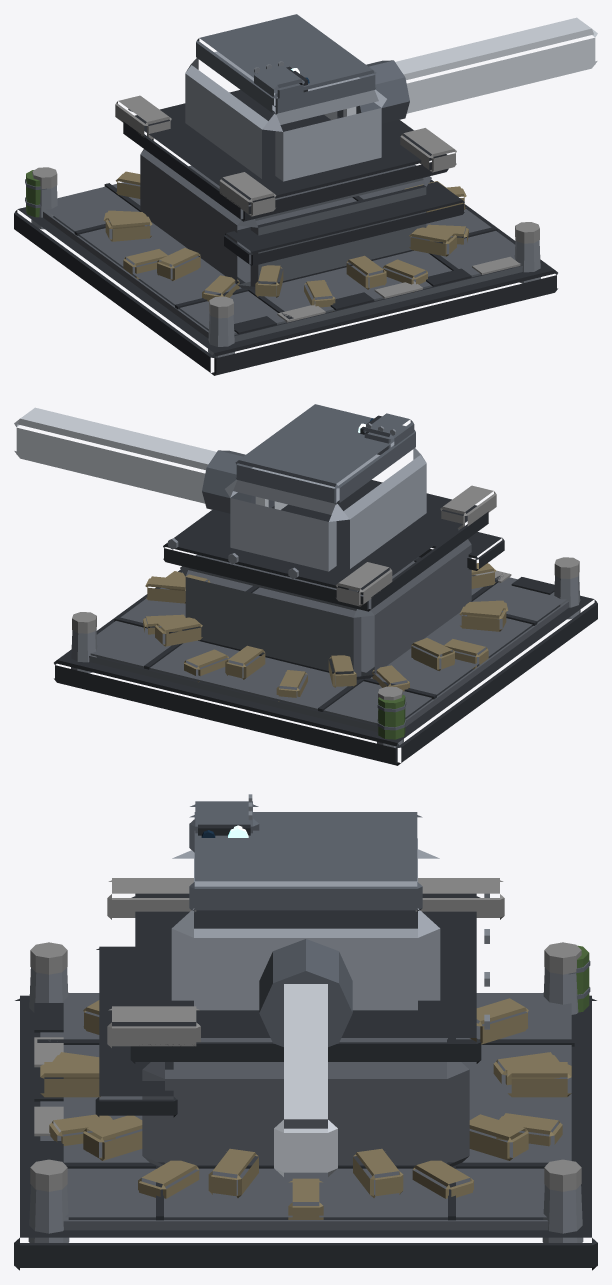
File: con_pillbox.glb
3 renders of one model, top to bottom at view 1: azimuth 30°, elevation 25°; view 2: azimuth 150°, elevation 25°; view 3: azimuth 270°, elevation 25°, orthographic. The views are drawn at different scales.
Parts seen in each view (by area): view 1: body, turret; view 2: body, turret; view 3: body, turret.
Boxes of the visible parts, box(x1,y1,x2,y2) form: body: box(14, 90, 557, 375); turret: box(185, 14, 597, 181); body: box(54, 480, 597, 765); turret: box(14, 404, 426, 571); body: box(14, 878, 597, 1270); turret: box(171, 794, 440, 1176).
Size of the model in its own units: 44 by 19.42 by 32.
